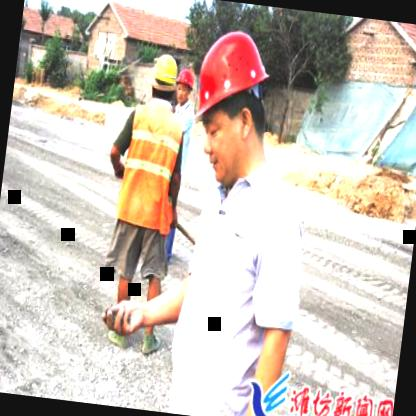helmet: (184, 23, 280, 188), (147, 49, 182, 105), (172, 64, 194, 102)
